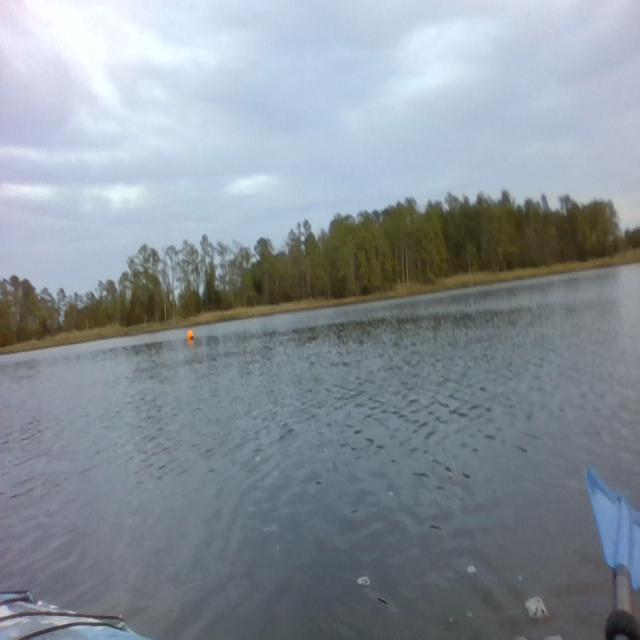Buoy: (185, 328, 195, 343)
